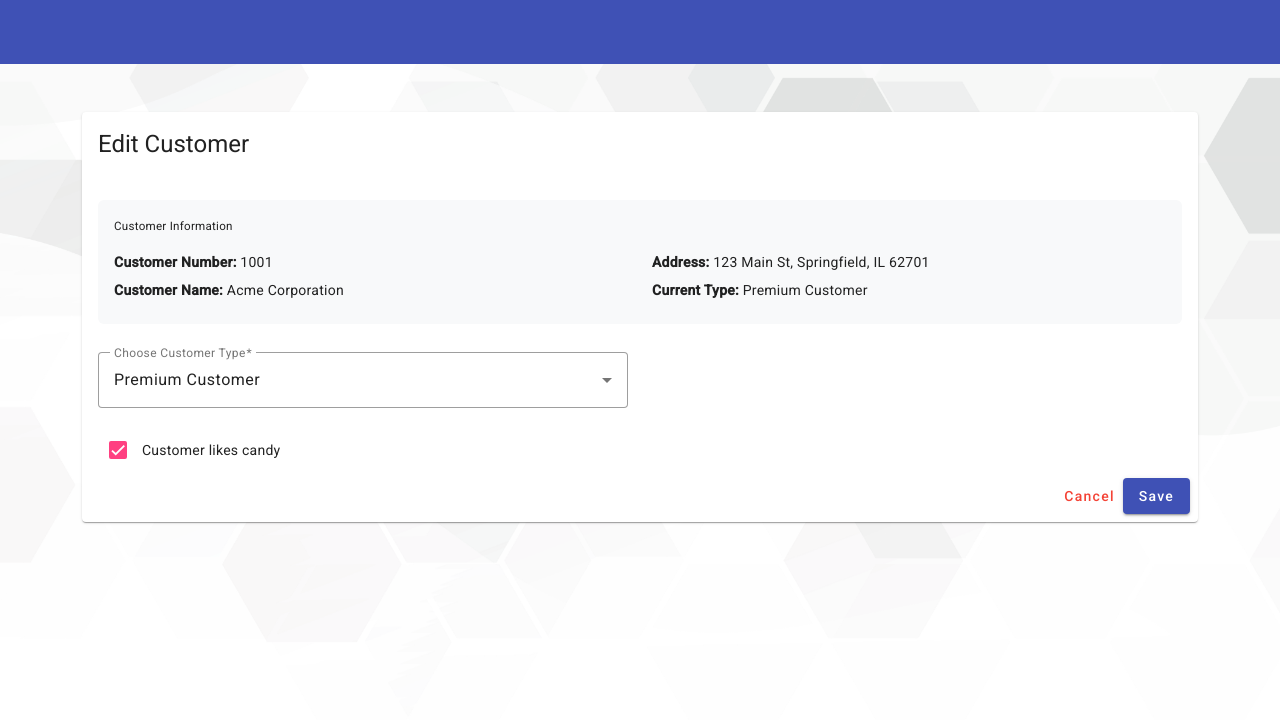
03 - Edit Customer (Mock Mode) › Form Interactions › should allow changing customer type
Expected: the element with test id "customer-type-select" is shown, [98,352,628,430]
Click the dropdown labelled "Premium Customer". click: x=187, y=380
box: [114,368,612,392]
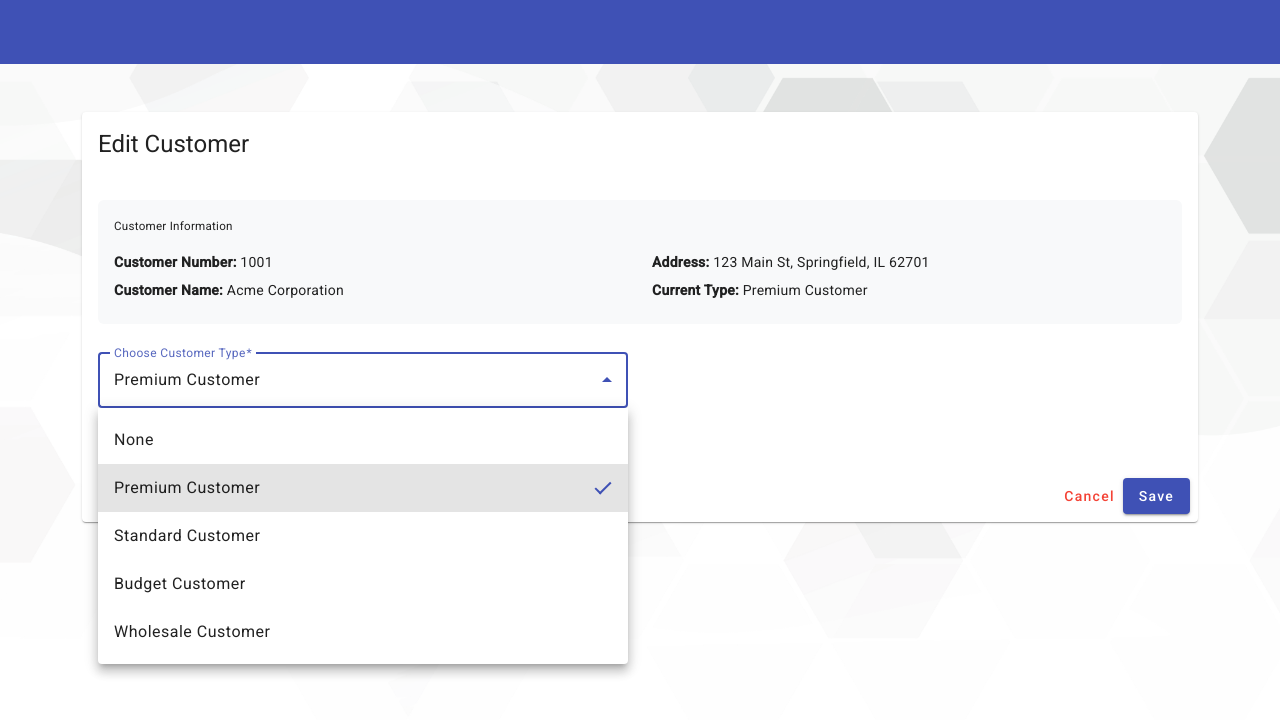
Click the text "Standard Customer". click: x=187, y=536
box: [114,524,260,548]
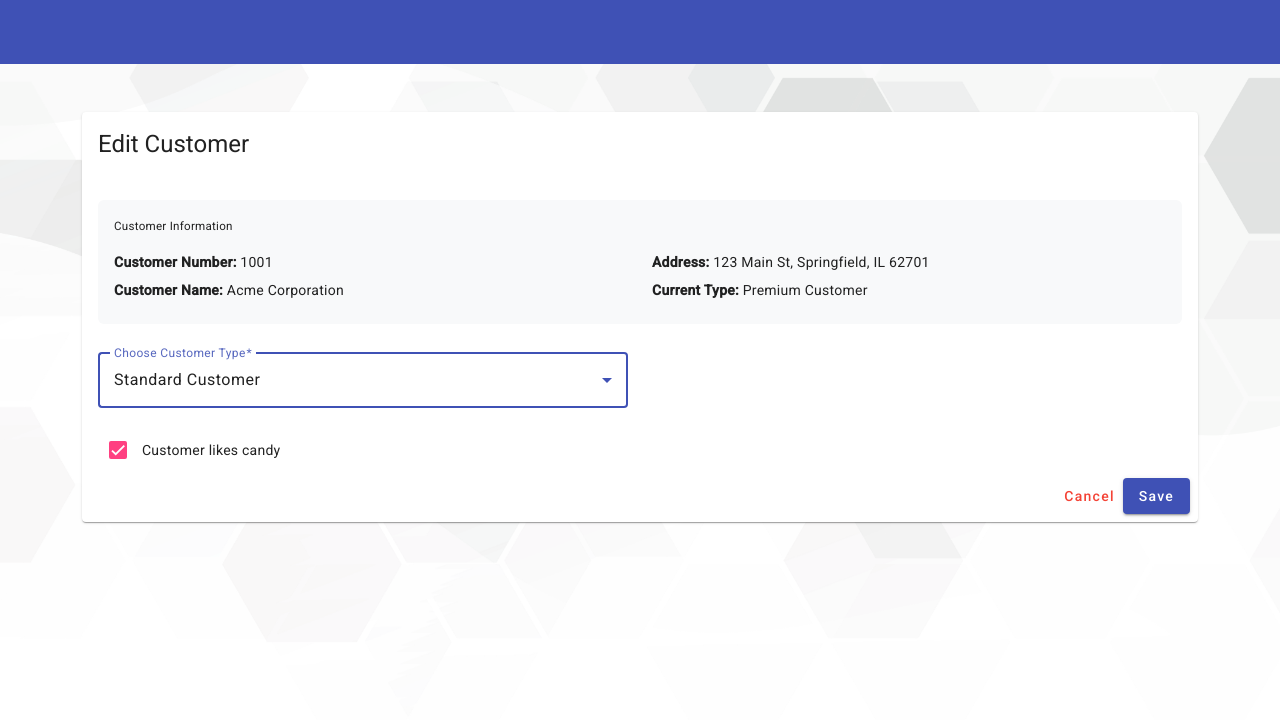
Expected: the text with test id "customer-type-select" reads "Standard Customer", [114,370,260,389]
